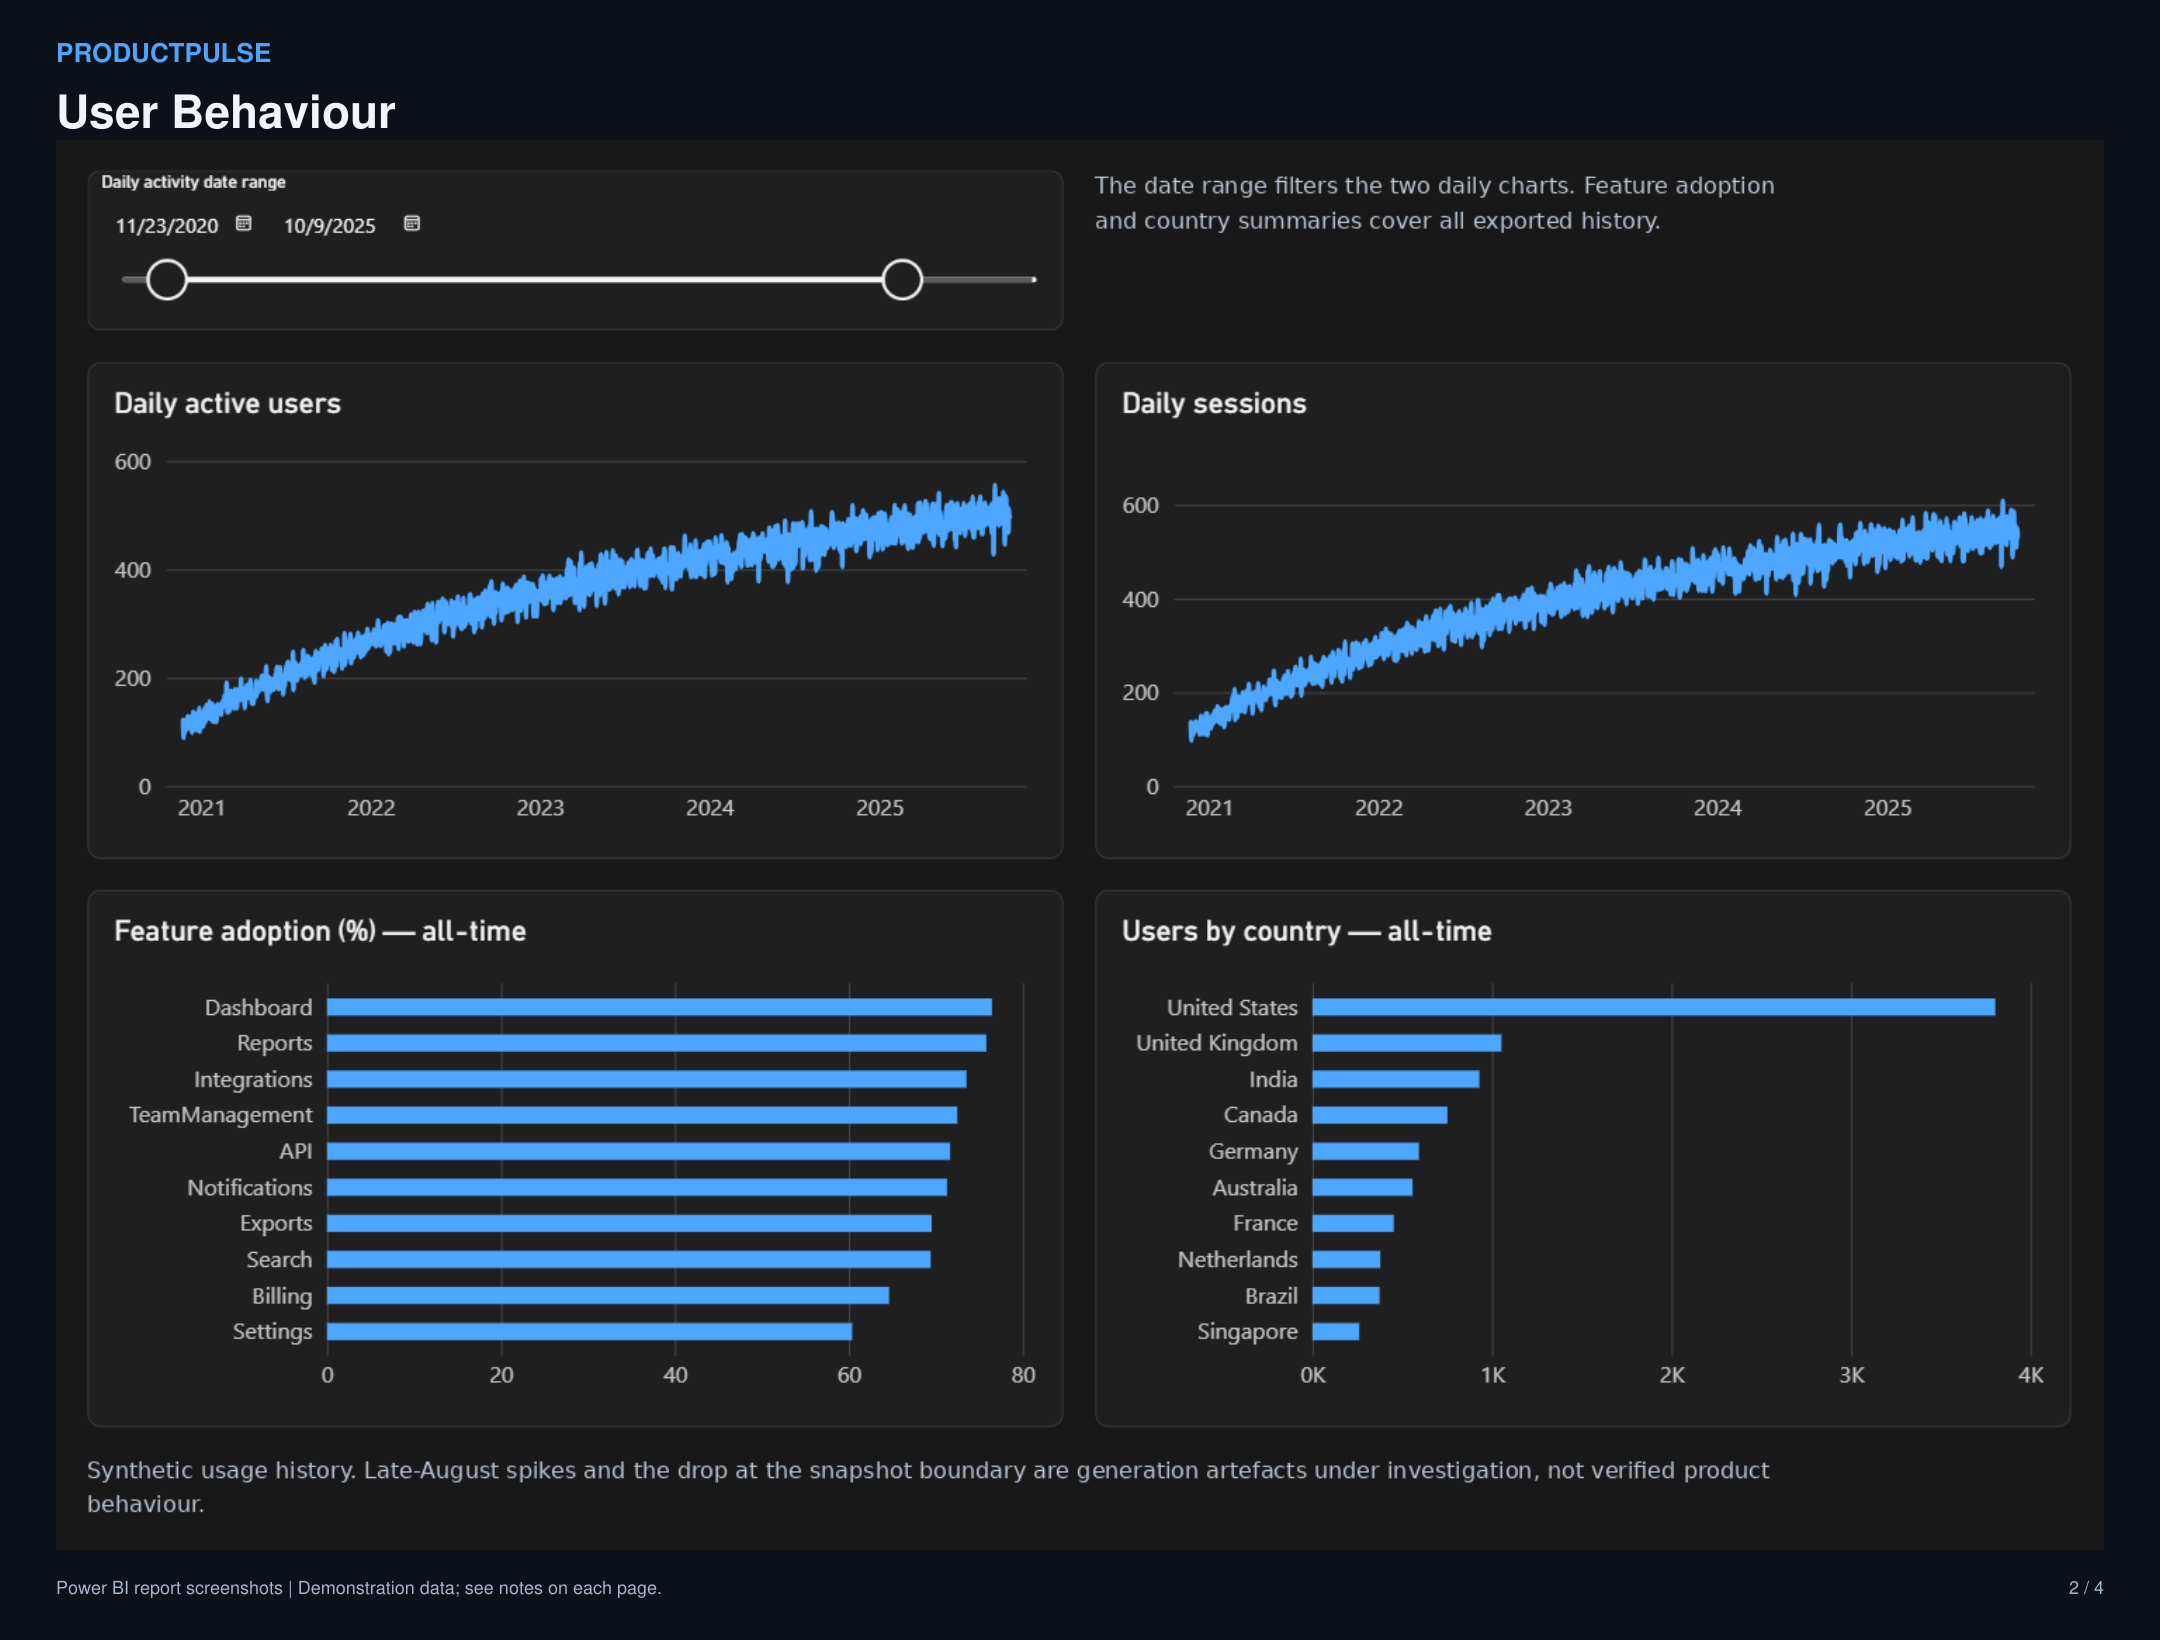

What the dashboard file says about the page in this screenshot:
{"tool":"powerbi","page":{"name":"User Behaviour","canvas":[1280,900],"ordinal":1},"visuals":[{"type":"lineChart","title":"Daily active users","fields":{"Category":["date"],"Y":["dau"]},"box":[20,140,610,310],"z":9},{"type":"lineChart","title":"Daily sessions","fields":{"Category":["date"],"Y":["sessions"]},"box":[650,140,610,310],"z":10},{"type":"clusteredBarChart","title":"Feature adoption (%) — all-time","fields":{"Category":["feature_name"],"Y":["adoption_pct"]},"box":[20,470,610,335],"z":11},{"type":"clusteredBarChart","title":"Users by country — all-time","fields":{"Category":["country"],"Y":["users"]},"box":[650,470,610,335],"z":12},{"type":"slicer","fields":{"Values":["daily_activity.date"]},"box":[20,20,610,100],"z":40},{"type":"textbox","box":[650,20,610,100],"z":50},{"type":"textbox","box":[20,820,1240,65],"z":50}]}

Visuals, with their boxes on the page's 1280x900 design canvas (x1, y1, x2, y2). These are canvas units, not pixel positions in the 2160x1640 screenshot, which may show the page scaled, cropped or inside an application window:
"Daily active users" lineChart: detection(20, 140, 630, 450)
"Daily sessions" lineChart: detection(650, 140, 1260, 450)
"Feature adoption (%) — all-time" clusteredBarChart: detection(20, 470, 630, 805)
"Users by country — all-time" clusteredBarChart: detection(650, 470, 1260, 805)
slicer - daily_activity.date: detection(20, 20, 630, 120)
textbox: detection(650, 20, 1260, 120)
textbox: detection(20, 820, 1260, 885)
